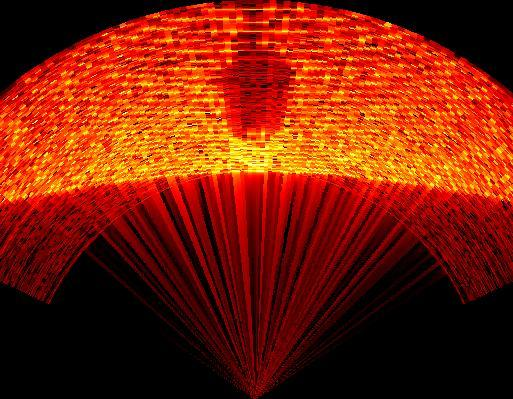box_crate: (222, 30, 288, 144)
